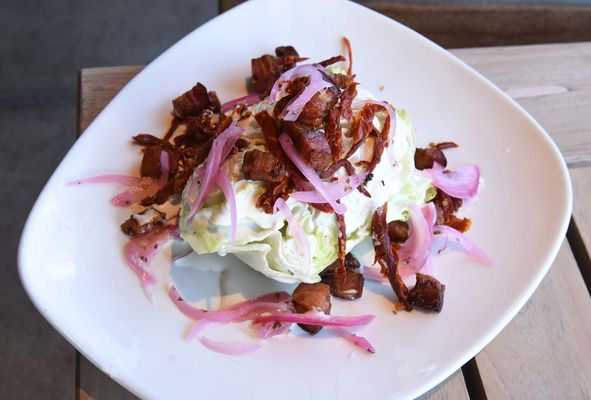sushi: (12, 2, 580, 397)
